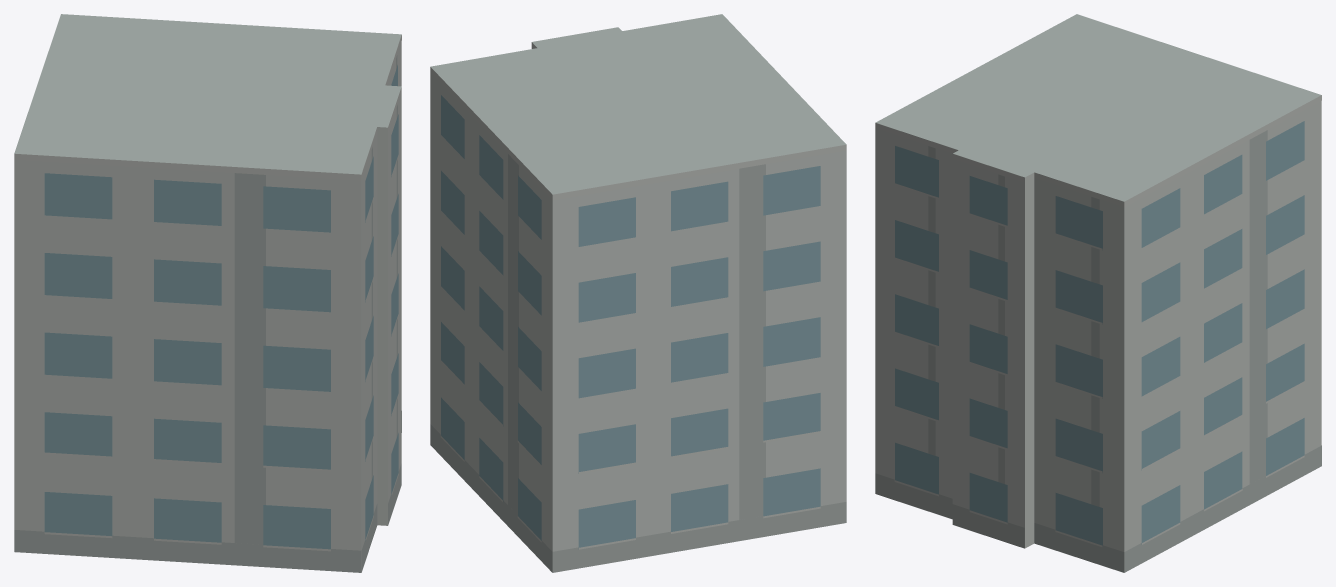
File: survey-upis-32884816.glb
The picture shows the model from 3 angles, left to right: view 1: azimuth 30°, elevation 25°; view 2: azimuth 150°, elevation 25°; view 3: azimuth 270°, elevation 25°; orthographic projection. The views are drawn at different scales.
Visible parts, largest first — view 1: survey-upis-32884816.tmp; view 2: survey-upis-32884816.tmp; view 3: survey-upis-32884816.tmp.
Boxes of the visible parts, x1,y1,x2,y2 form: survey-upis-32884816.tmp: (14, 14, 401, 572); survey-upis-32884816.tmp: (430, 14, 846, 572); survey-upis-32884816.tmp: (875, 14, 1321, 572).
Size of the model in its own units: 17.26 by 15.9 by 17.34.
